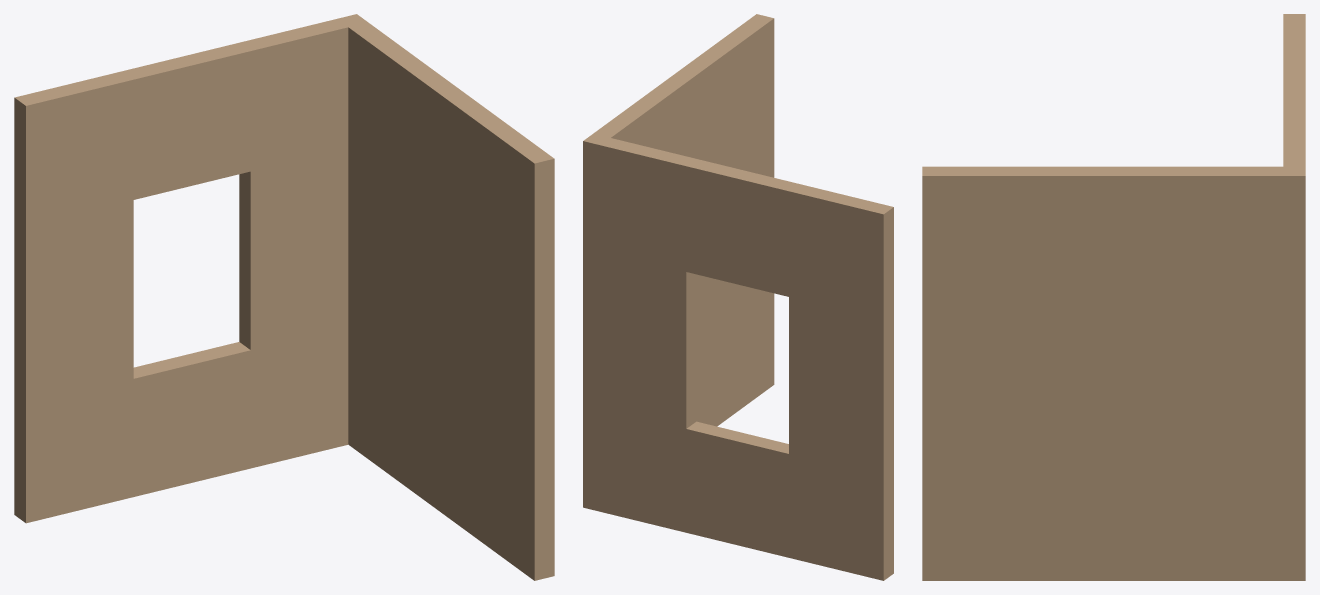
Rendered from Wall2_C1_07.fbx.
3 views of the same model, side by side, from view 1: azimuth 30°, elevation 25°; view 2: azimuth 150°, elevation 25°; view 3: azimuth 270°, elevation 25° (orthographic). The views are drawn at different scales.
Parts seen in each view (by area): view 1: Wall2_C1_07; view 2: Wall2_C1_07; view 3: Wall2_C1_07.
Boxes of the visible parts, x1,y1,x2,y2 form: Wall2_C1_07: (14,14,554,580); Wall2_C1_07: (583,14,893,580); Wall2_C1_07: (922,14,1305,580).
Size of the model in its own units: 258 by 300 by 258.
